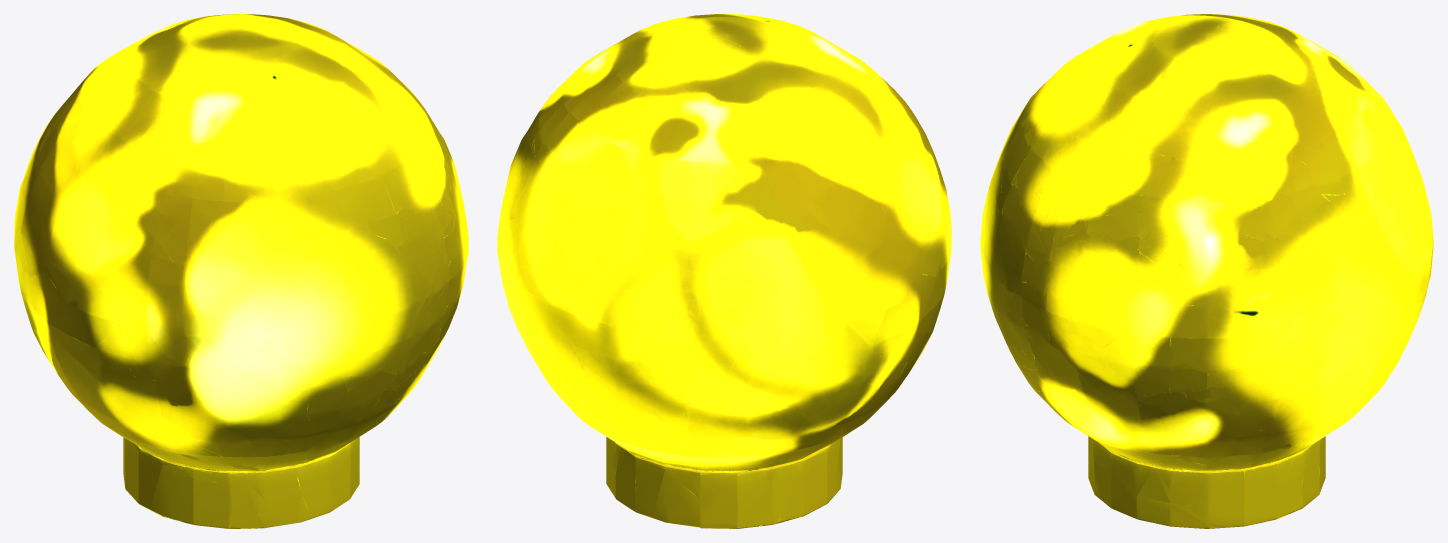
The model's file is food_pellet.glb.
The picture shows the model from 3 angles, left to right: view 1: azimuth 30°, elevation 25°; view 2: azimuth 150°, elevation 25°; view 3: azimuth 270°, elevation 25°; orthographic projection.
Bounding box in the file's own units: 1.71 × 1.9 × 1.71.
Materials: 1 (1 with a texture image).
